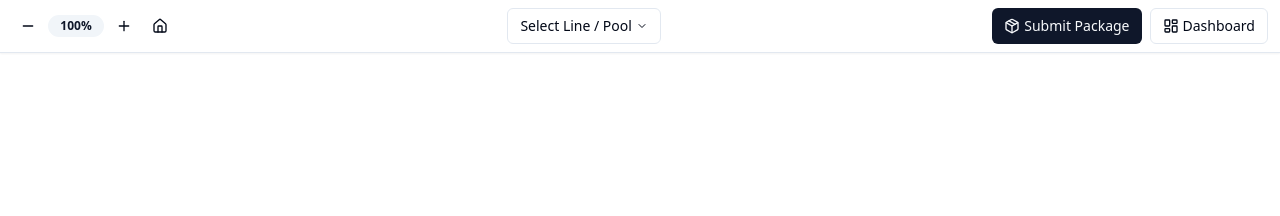
Test: FactoryToolbar › submit package dropdown shows assembly lines
Click the button with test id "submit-package-btn".
click(1067, 26)  # box left=992, top=8, right=1142, bottom=44
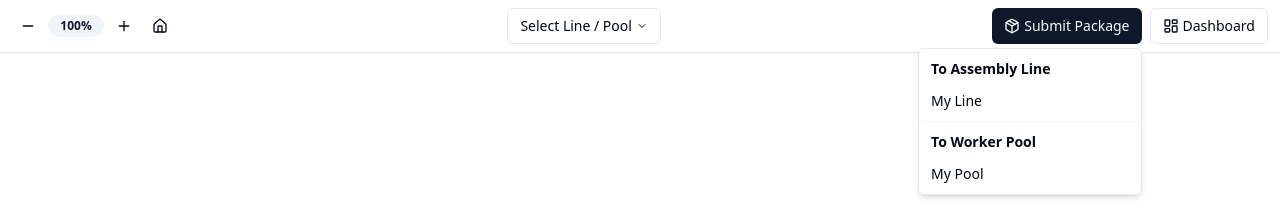
Expected: the text "To Assembly Line" is shown, left=931, top=59, right=1050, bottom=78
